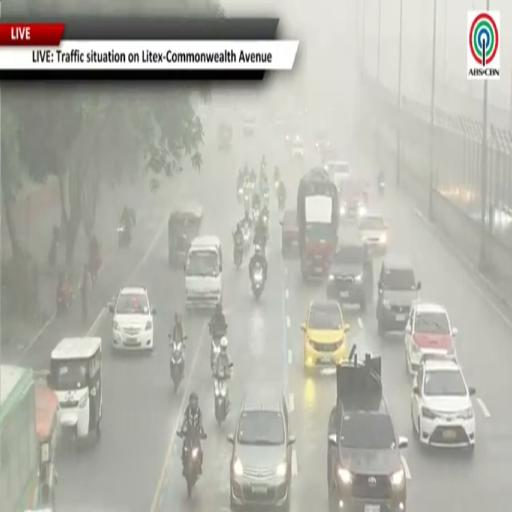bus: (0, 365, 39, 511)
car: (328, 346, 408, 511), (228, 394, 294, 511), (411, 356, 475, 451), (405, 301, 457, 374), (376, 254, 421, 335), (301, 300, 350, 373), (327, 237, 374, 310), (110, 285, 155, 350), (336, 176, 367, 221), (358, 212, 388, 254), (280, 210, 299, 258), (325, 160, 351, 190), (315, 133, 330, 156), (291, 136, 304, 158), (243, 116, 255, 136)
motorcycle: (177, 430, 206, 498), (170, 335, 186, 392), (214, 374, 230, 425), (210, 326, 227, 371), (56, 282, 74, 315), (89, 253, 102, 286), (252, 264, 264, 299), (117, 223, 131, 248), (234, 239, 244, 268), (243, 224, 251, 251), (278, 191, 285, 210), (251, 205, 259, 221), (262, 213, 268, 234), (244, 192, 250, 211), (262, 189, 269, 205), (238, 187, 244, 202), (379, 181, 385, 196), (274, 180, 280, 191)
truck: (297, 167, 339, 281)
